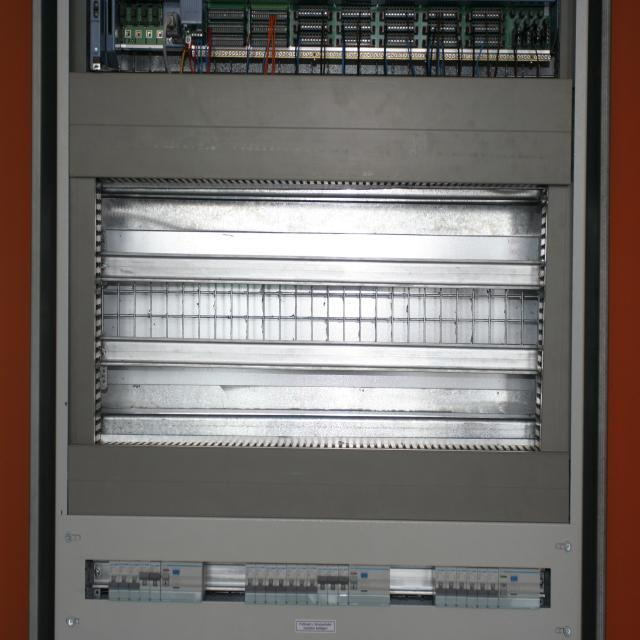FI: (161, 561, 204, 603), (498, 567, 540, 609), (349, 565, 390, 606)
Leitungsschutzschalter: (129, 560, 140, 601), (245, 563, 256, 604), (317, 564, 328, 605), (150, 561, 161, 601), (255, 563, 266, 603), (286, 564, 297, 604), (307, 564, 318, 604), (338, 564, 349, 604), (435, 566, 446, 606), (446, 566, 457, 606), (488, 567, 499, 607), (276, 564, 287, 603), (266, 563, 276, 604), (328, 564, 338, 605), (109, 560, 119, 600), (119, 561, 129, 601), (140, 561, 150, 601), (297, 564, 307, 604), (457, 567, 467, 607), (467, 567, 477, 607), (478, 567, 488, 607)
